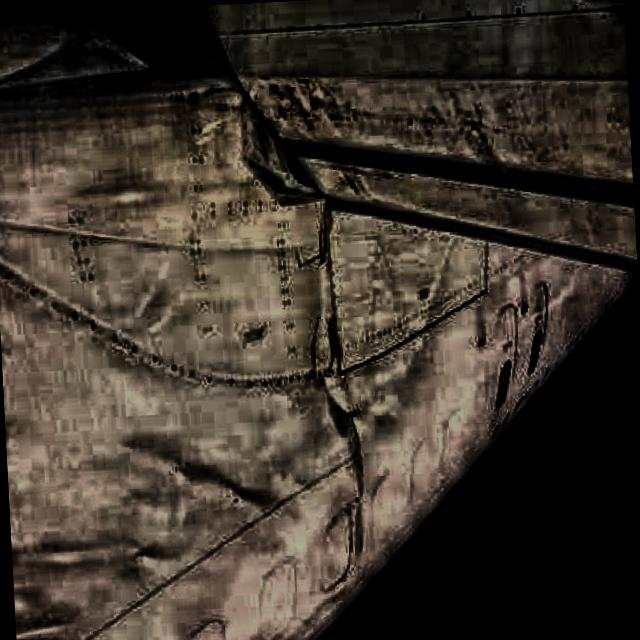dent: (118, 446, 288, 566), (312, 310, 442, 449), (66, 179, 168, 233), (15, 543, 116, 590), (130, 262, 194, 334), (19, 596, 90, 640)
